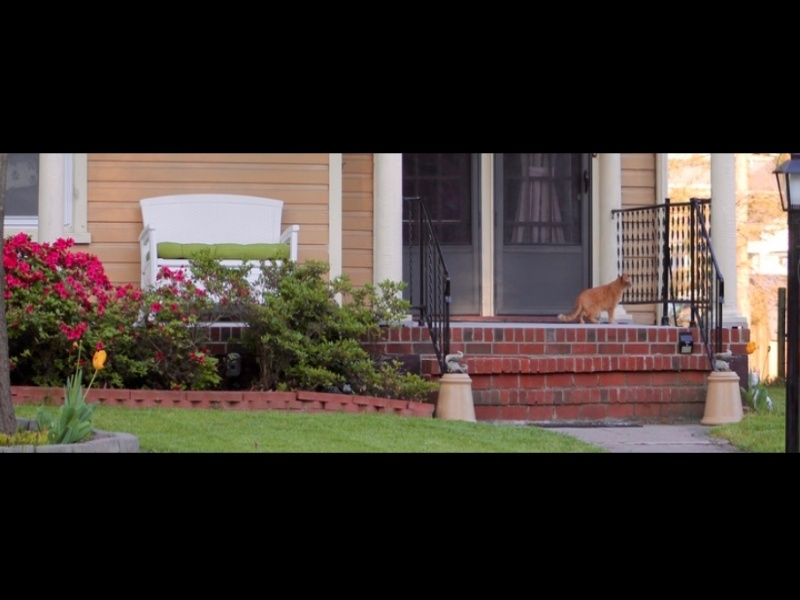cat: (559, 276, 631, 324)
